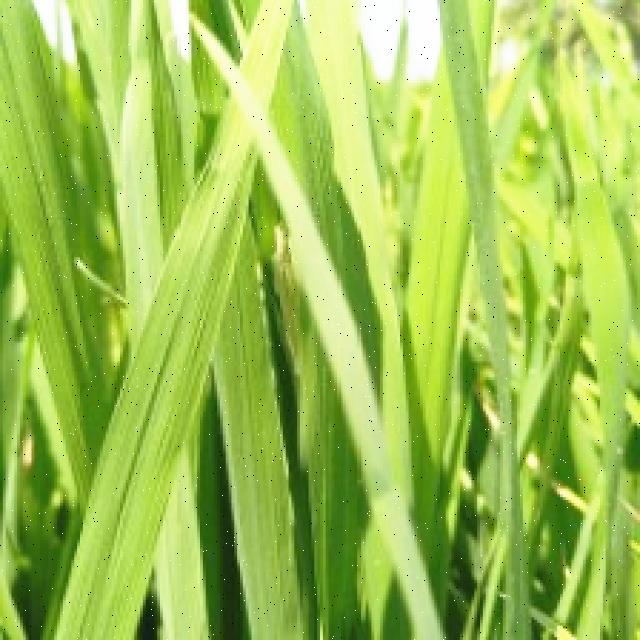health: (51, 0, 291, 639)
